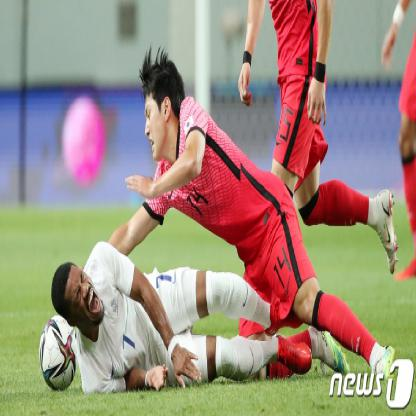Fall_Down: (49, 239, 314, 395)
